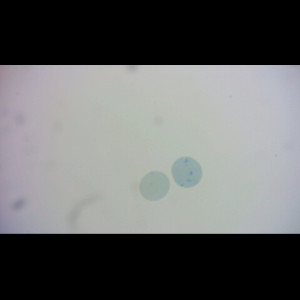erythrocyte: (138, 170, 171, 202)
punctate reticulocyte: (170, 155, 204, 188)
